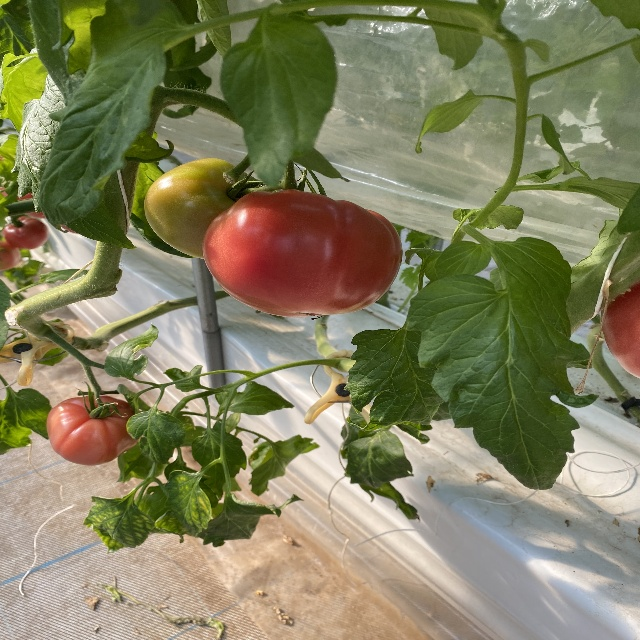b_fully_ripened: (202, 188, 403, 317), (45, 395, 142, 466), (2, 216, 50, 250)
b_half_ripened: (143, 158, 271, 258)
